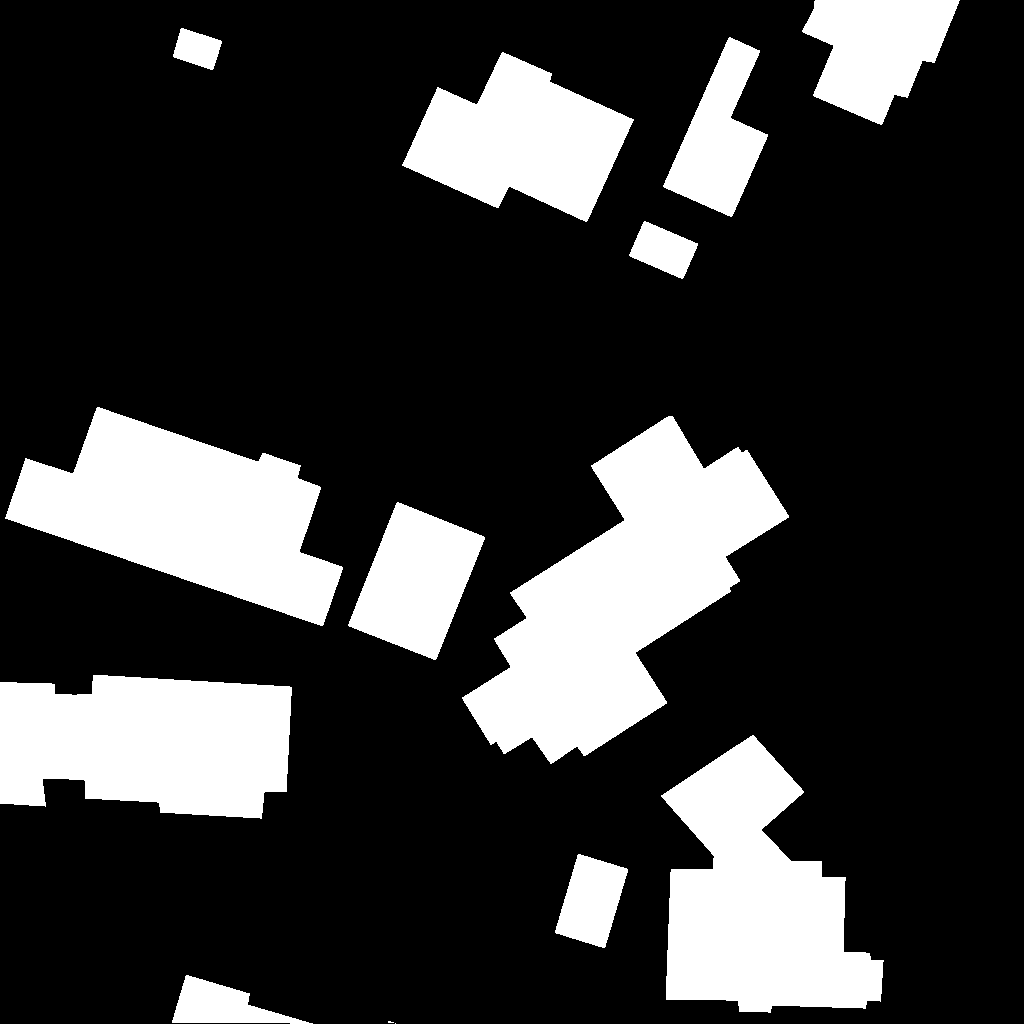building: (462, 415, 790, 765), (5, 407, 344, 627), (661, 735, 884, 1013), (0, 675, 293, 819), (402, 52, 635, 223), (348, 502, 486, 661), (802, 0, 961, 126), (663, 37, 769, 218), (172, 975, 397, 1024), (555, 854, 629, 949), (629, 221, 699, 280), (173, 28, 223, 71)
